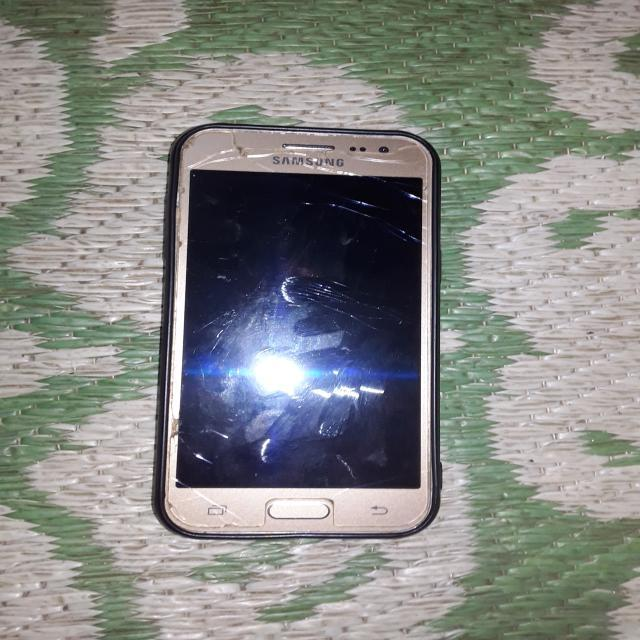scratch: (322, 439, 378, 485)
screen crack: (178, 124, 446, 253), (139, 411, 269, 529)
